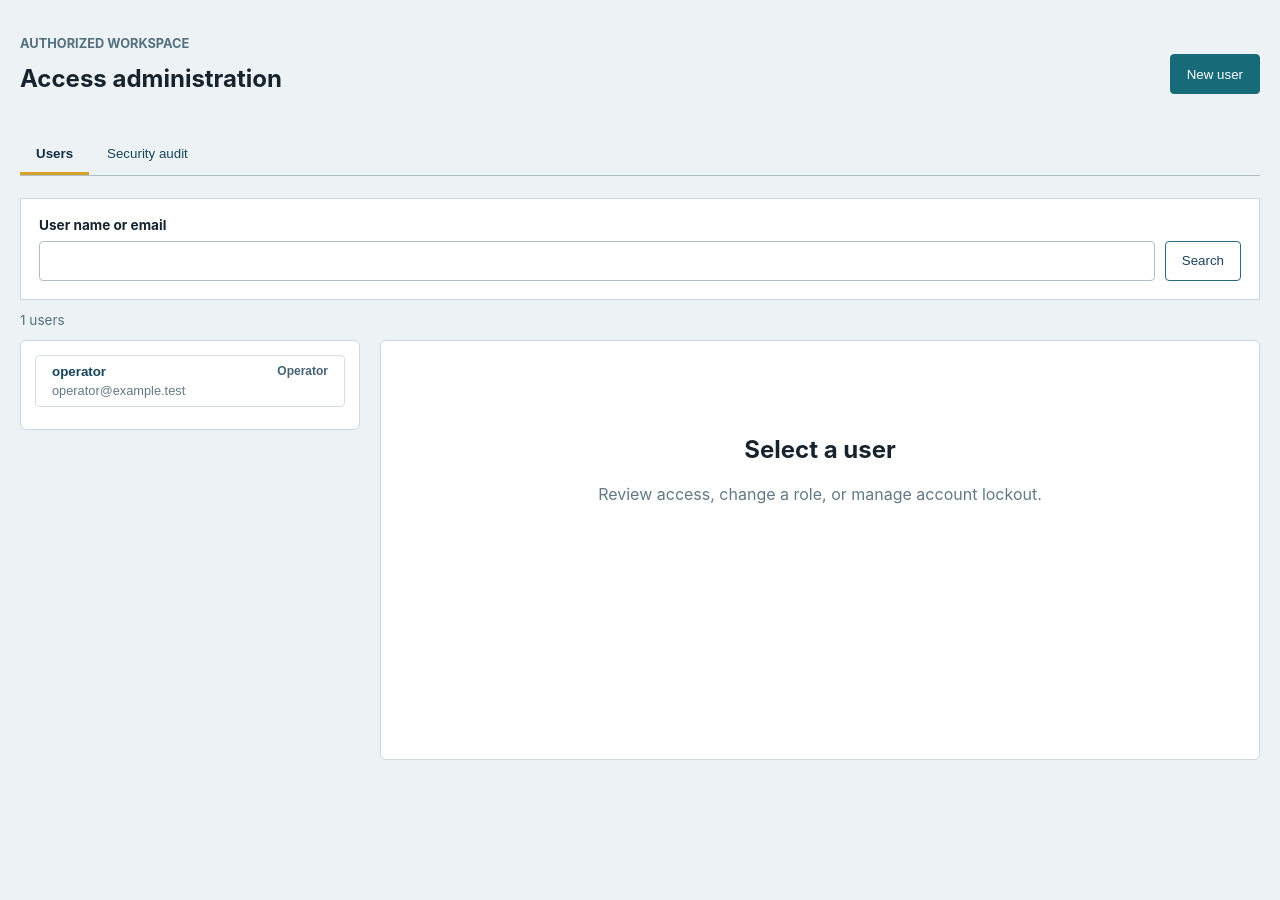
Scenario: AccessAdministrationComponent › renders a useful administrator user action @surface:administration @role:Administrator
The width and height of the screenshot is (1280, 900).
Click the button with class "result": (79, 371) x1=35 y1=355 x2=345 y2=407
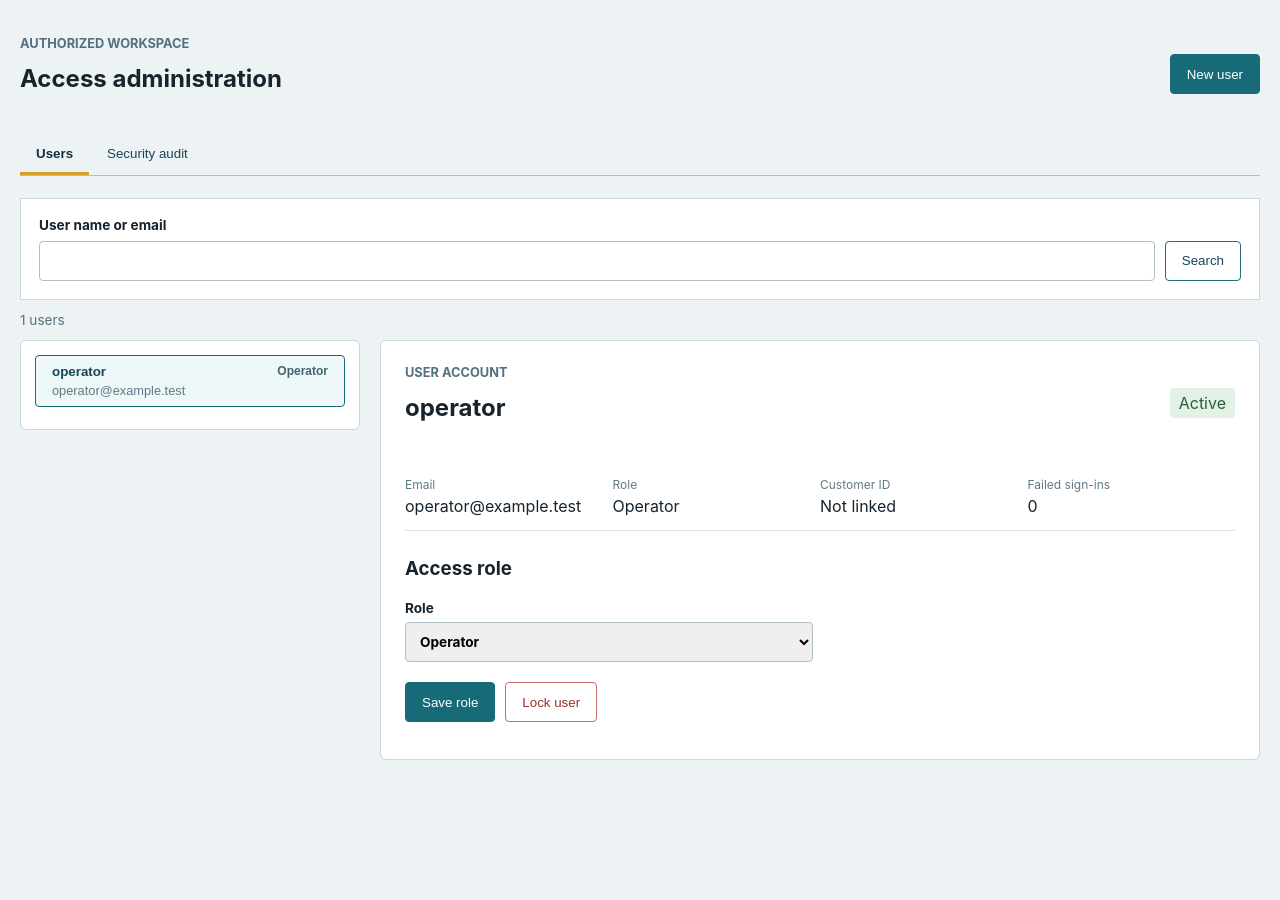
expect the text "Save role" is shown: met, box x1=405 y1=682 x2=495 y2=722
expect the text "Lock user" is shown: met, box x1=505 y1=682 x2=597 y2=722
